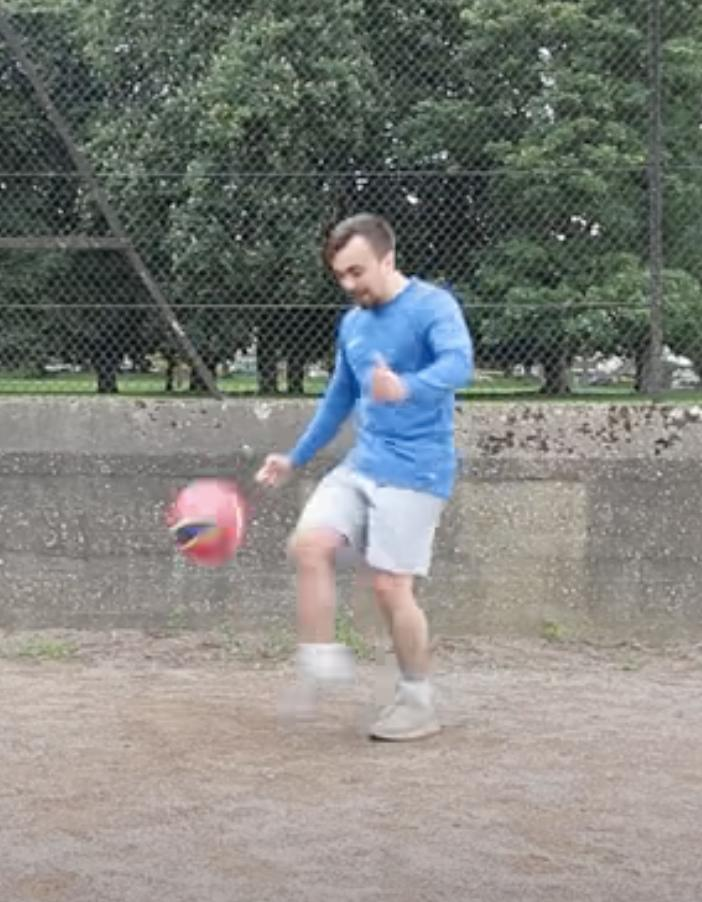ball: (166, 480, 243, 565)
foot: (359, 682, 442, 743)
person: (255, 212, 474, 739)
